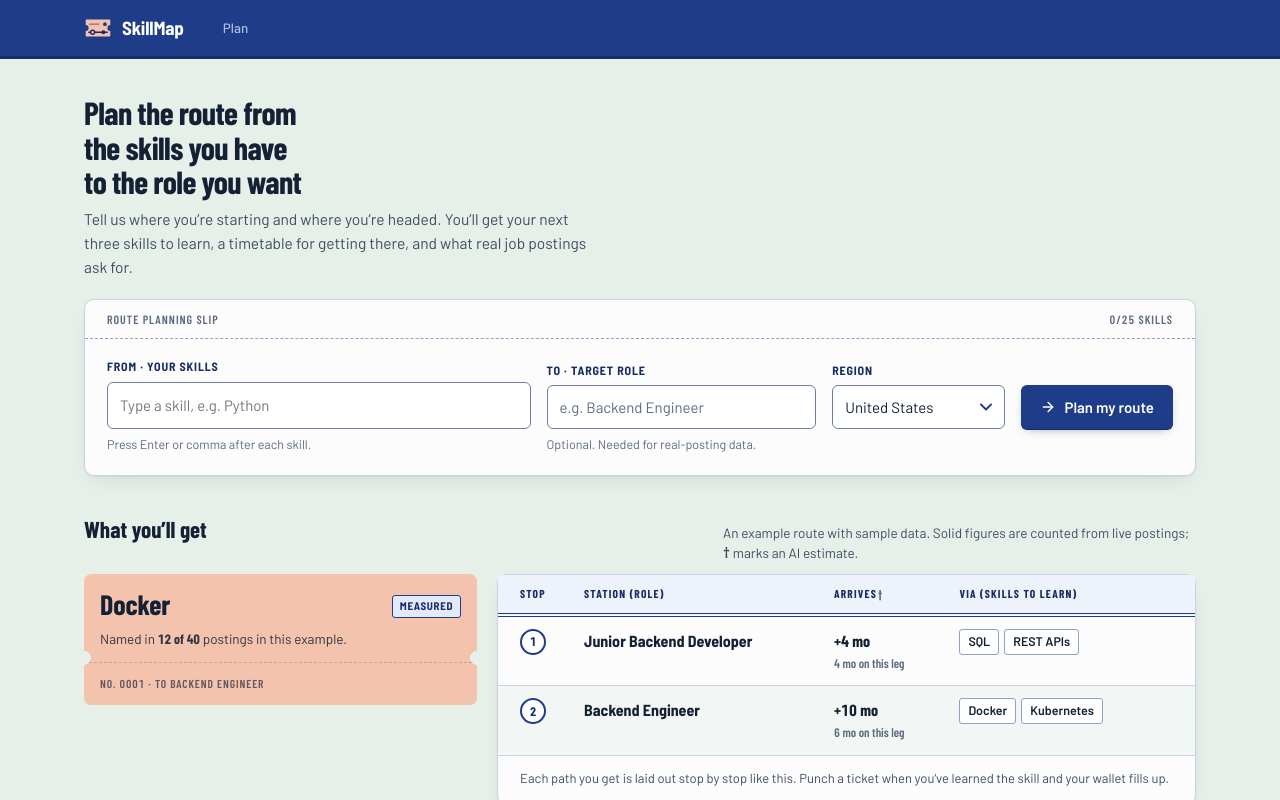
App behaviour › cancels a stale market request so it cannot overwrite a newer run
This screenshot has width=1280, height=800.
Type "React" into the dropdown labelled "From · your skills". click: [319, 406]
box: [116,389,522,422]
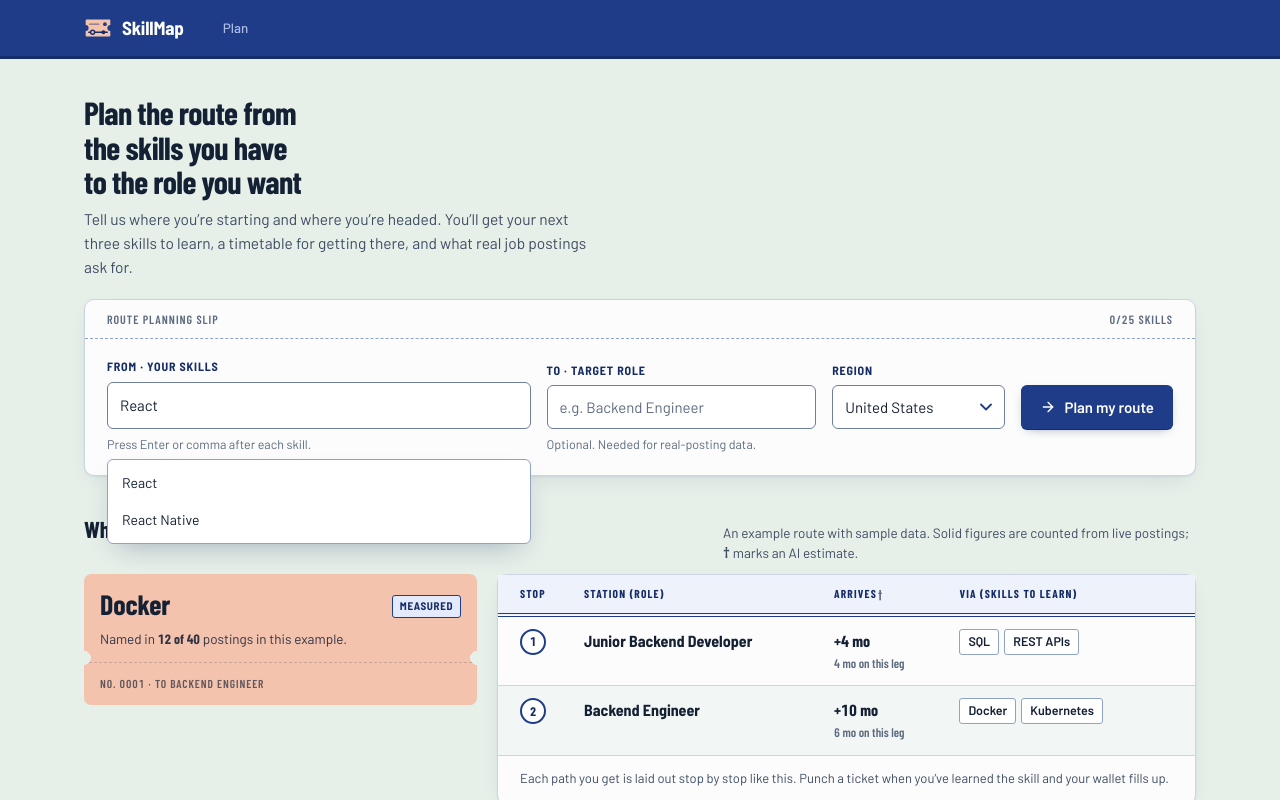
Press Enter in the dropdown labelled "From · your skills", box [116,389,522,422]
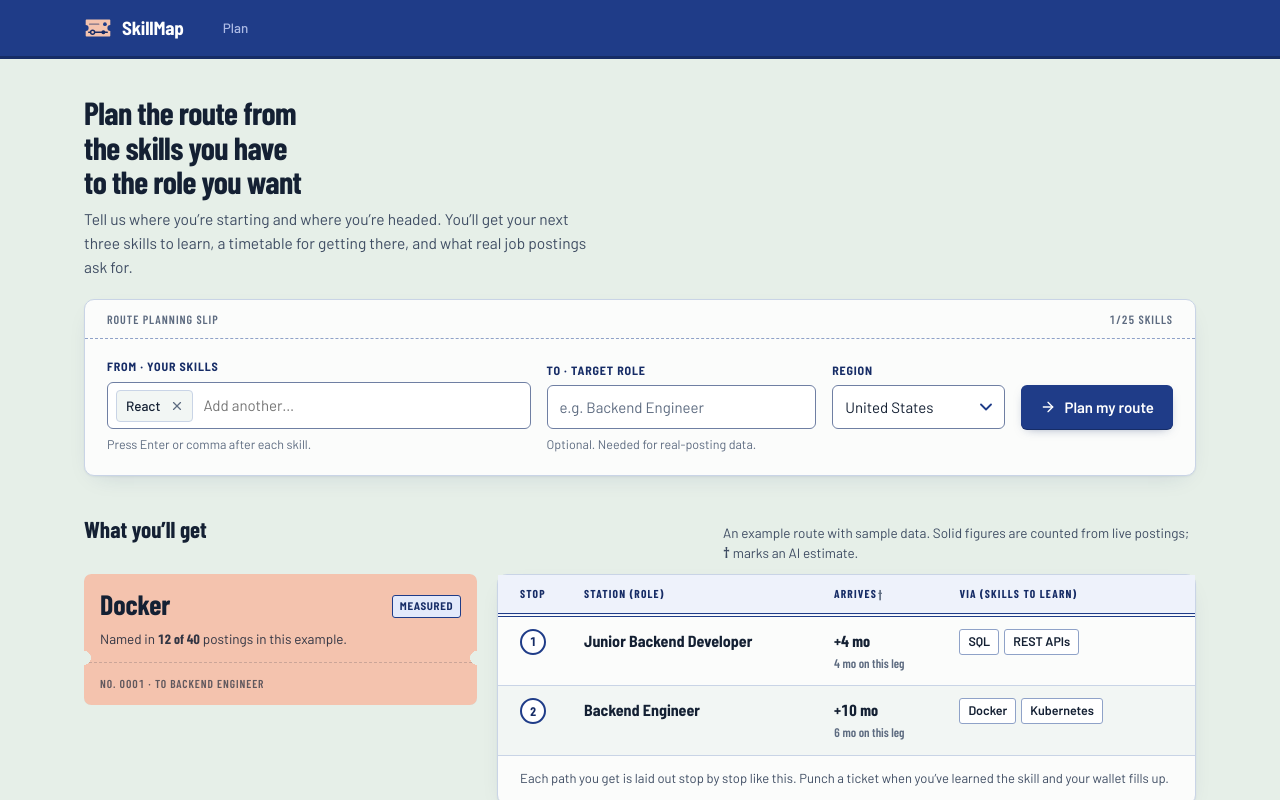
Type "Full Stack Developer" into the dropdown labelled "To · target role". click: [681, 407]
box: [547,385,816,429]
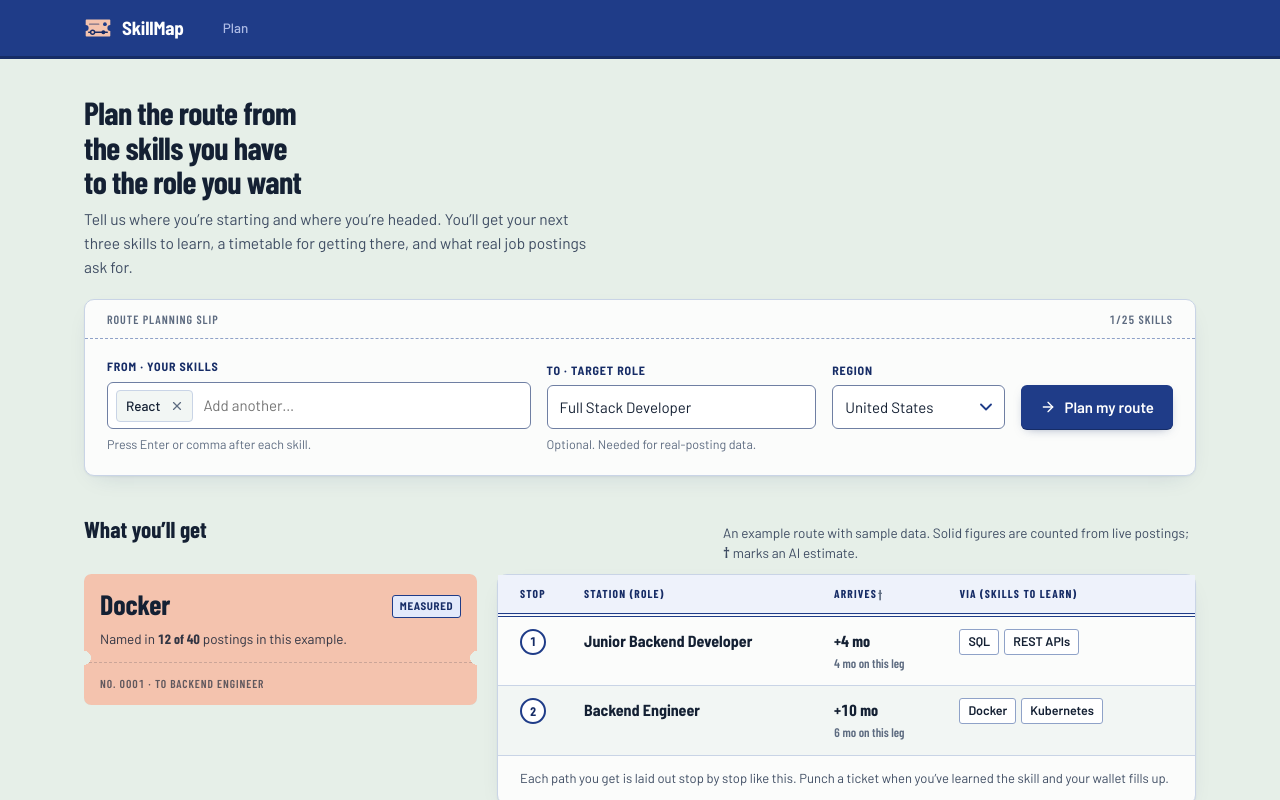
Click the button "Plan my route". click: [1097, 407]
box: [1022,385,1173,429]
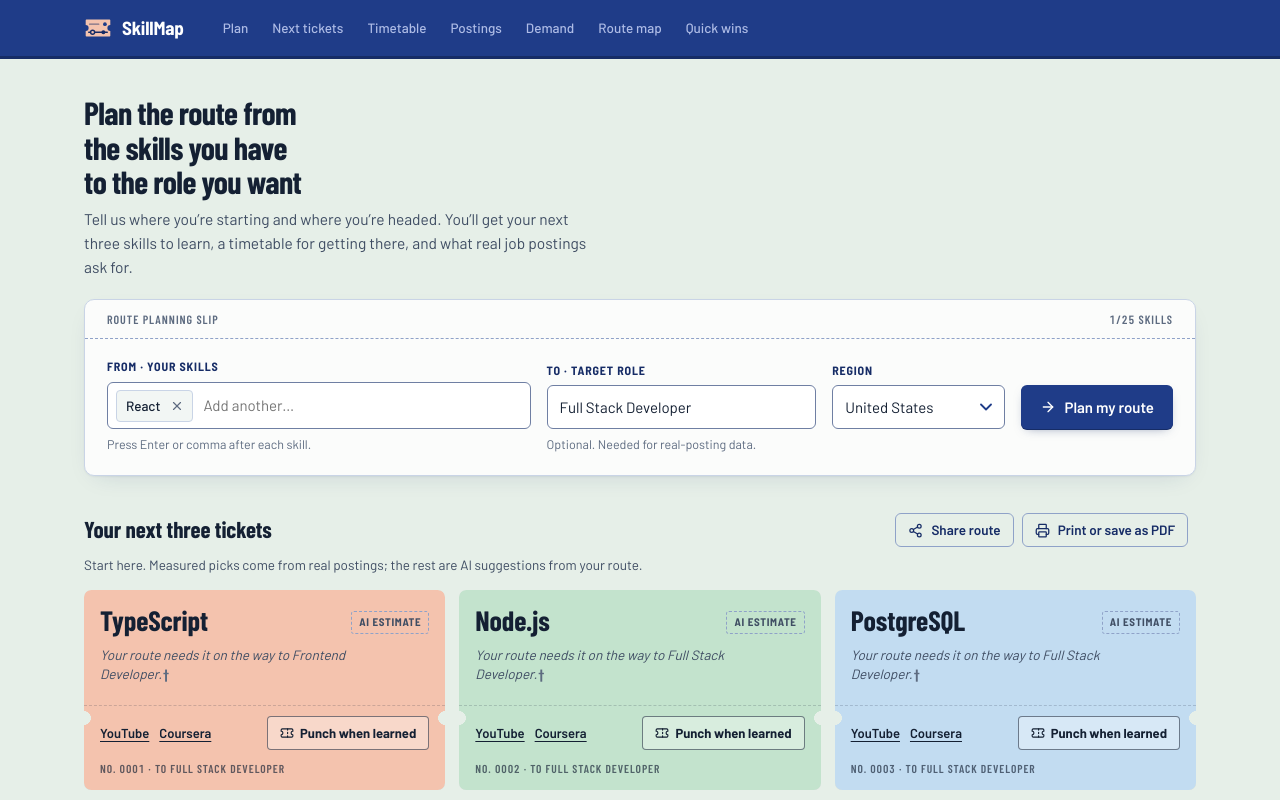
Now the heading "Your next three tickets" is shown, box [84,512,272,547]
Click the button "Plan my route". click: [1097, 407]
box: [1022,385,1173,429]
(page scrolled)
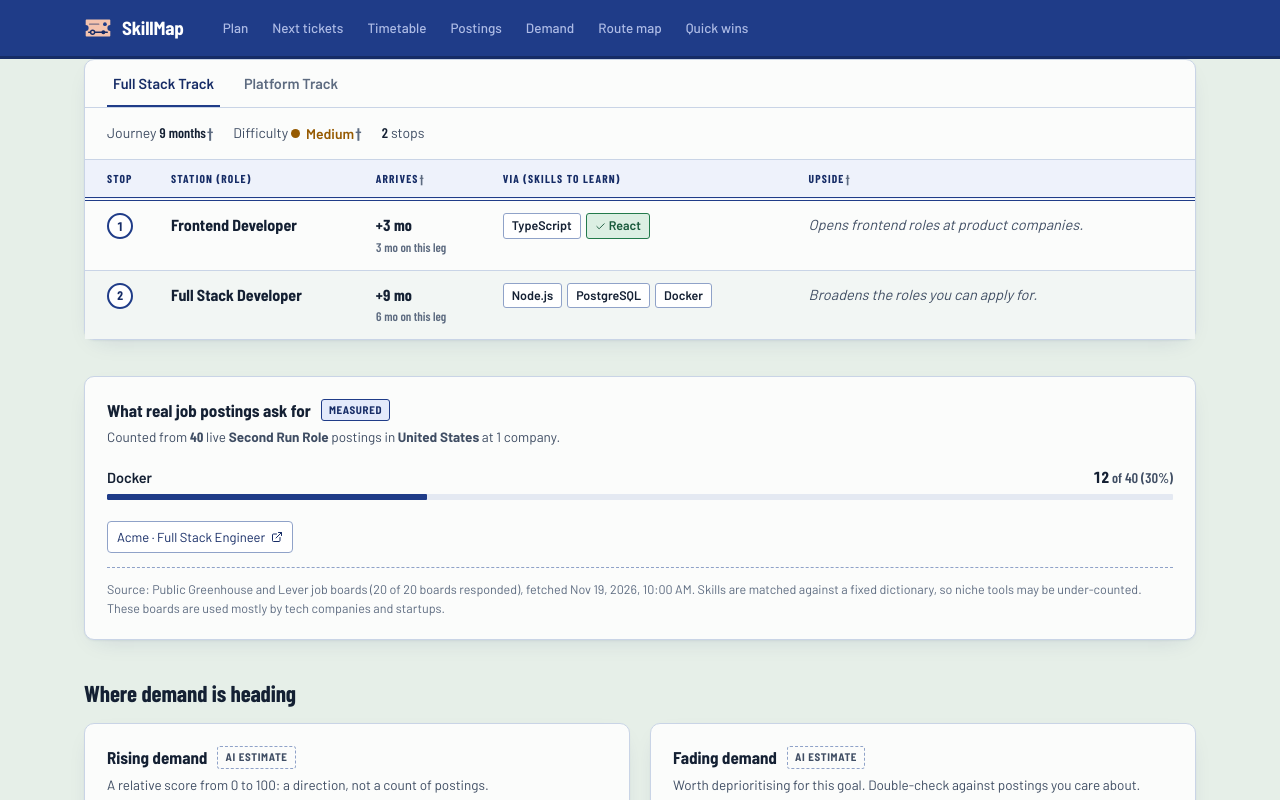
Now the text "Second Run Role" is shown, box [229,428,329,445]
